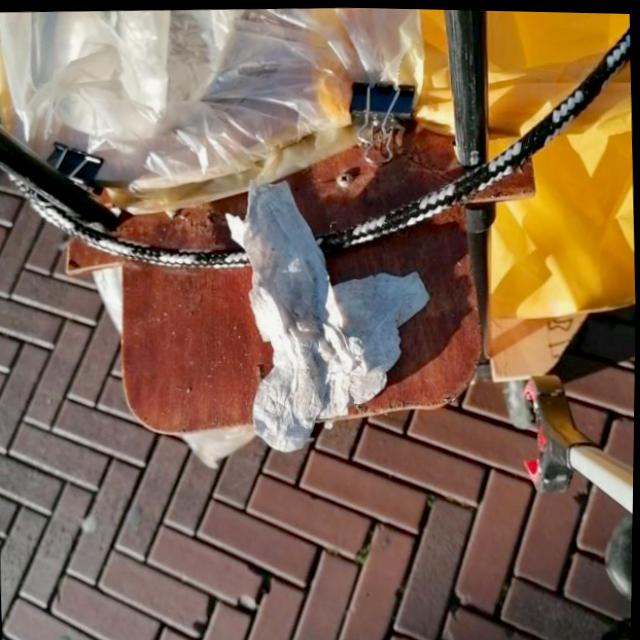Paper: (221, 168, 441, 455)
